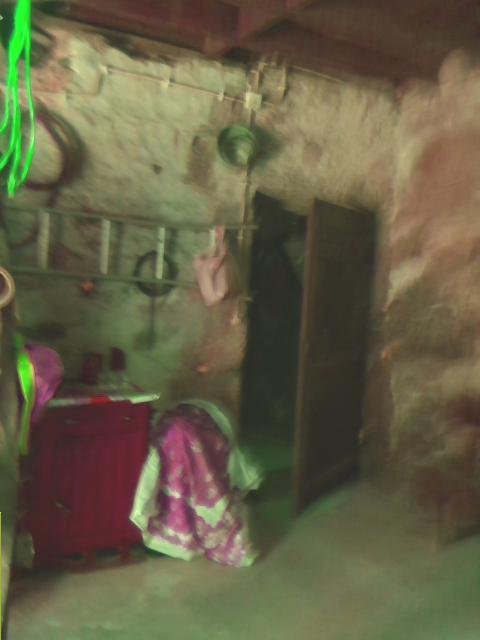semi_door: (234, 184, 381, 521)
